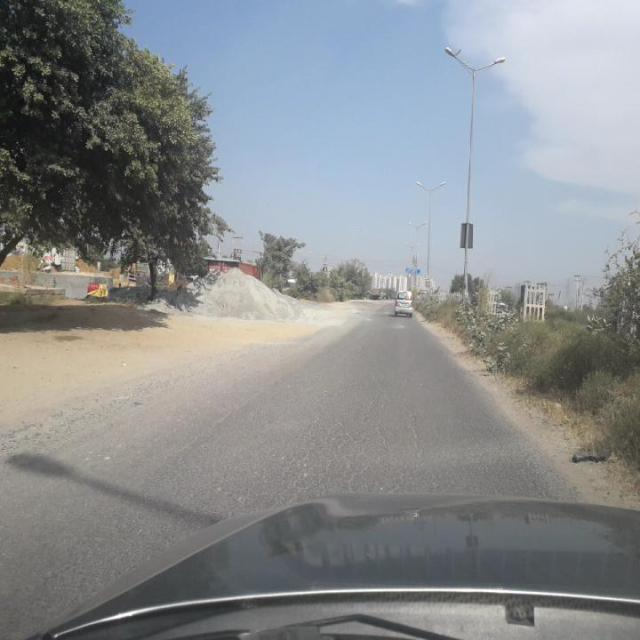D00: (150, 355, 310, 471)
D20: (180, 362, 483, 500)
